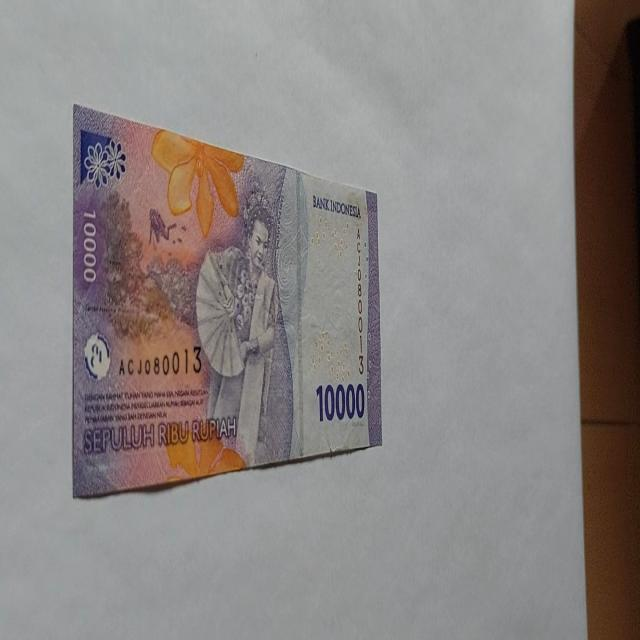sepuluh ribu rupiah: (71, 103, 382, 498)
